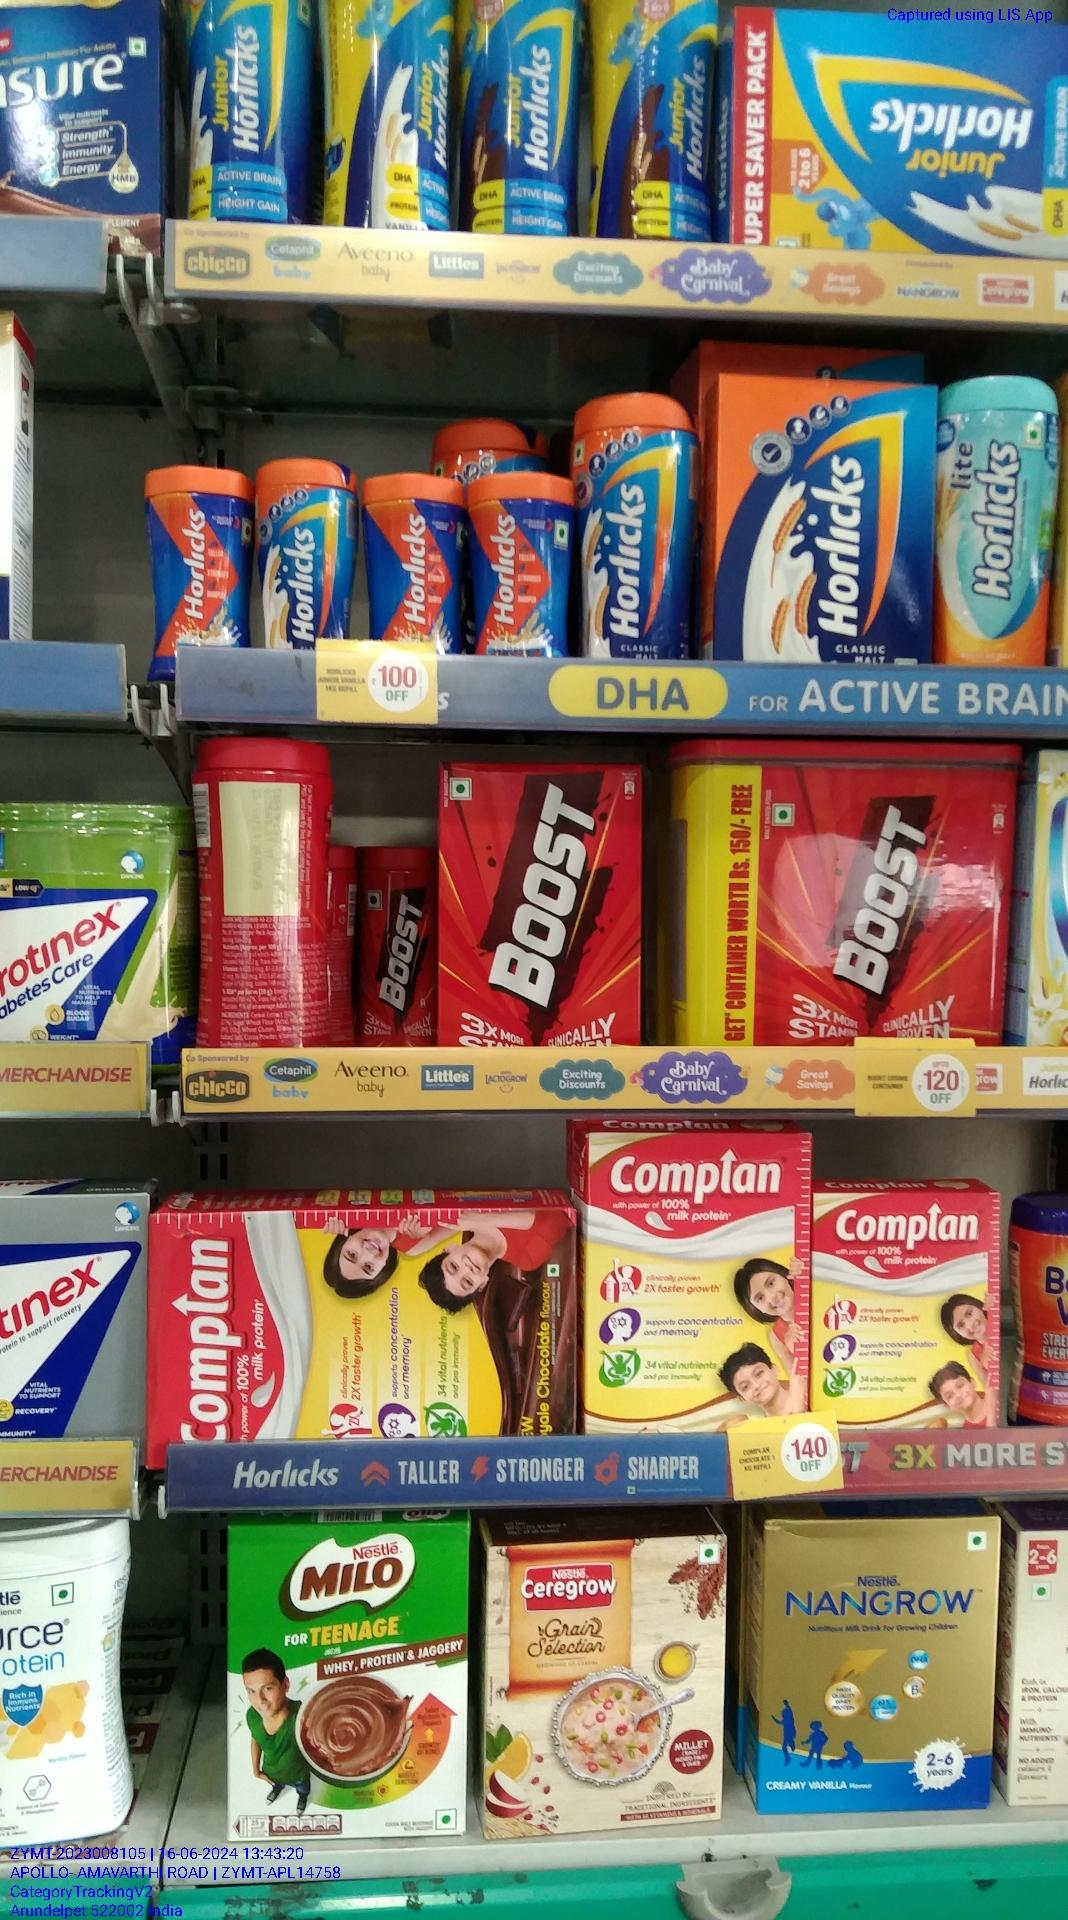COMPLAN_KESAR_BADAM_200_GMS_PACK: (814, 1194, 1007, 1428)
HORLICKS_JUNIOR_VANILLA_500_GM_JAR: (184, 0, 312, 226), (333, 0, 455, 235)
HORLICKS_LITE_REGULAR_MALT_500_GM_JAR: (940, 379, 1068, 669)
HORLICK_CLASSIC_MALT_200_G_JAR: (254, 456, 354, 650), (145, 468, 249, 647), (471, 469, 566, 661), (370, 468, 466, 654)
HORLICK_CLASSIC_MALT_500_G_JAR: (581, 391, 696, 658)
HORLICK_CLASSIC_MALT_500_G_PACK: (721, 372, 931, 672)
